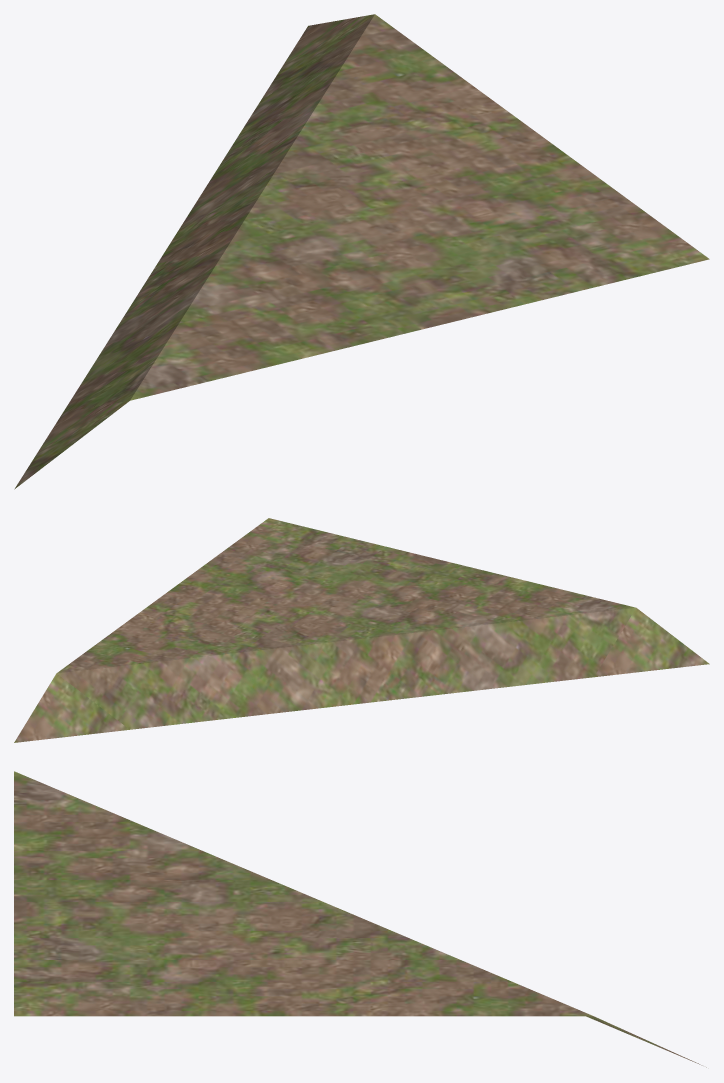
The model's file is ground2.FBX.
The picture shows the model from 3 angles, top to bottom: view 1: azimuth 30°, elevation 25°; view 2: azimuth 150°, elevation 25°; view 3: azimuth 270°, elevation 25°; orthographic projection. The views are drawn at different scales.
Parts seen in each view (by area): view 1: ground2; view 2: ground2; view 3: ground2.
Part boxes in pixels (box(x1,y1,x2,y2)): ground2: box(14, 14, 709, 489); ground2: box(14, 518, 709, 742); ground2: box(14, 771, 706, 1067).
Bounding box in the file's own units: 240 × 20 × 240.
